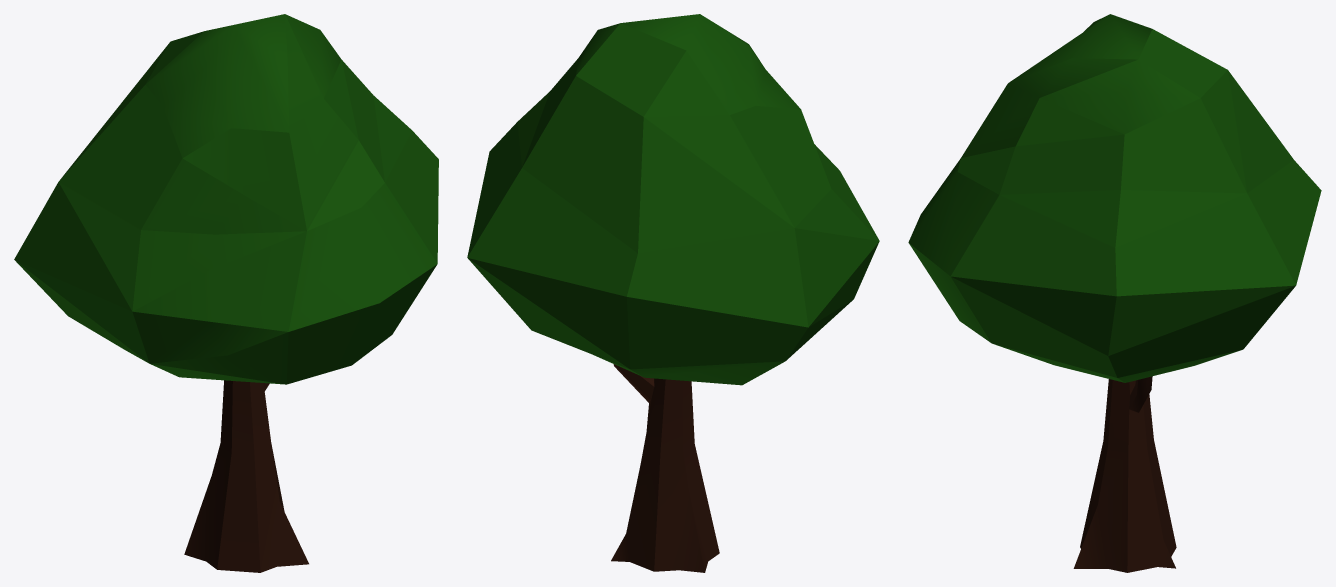
The model's file is arbol_1.FBX.
The picture shows the model from 3 angles, left to right: view 1: azimuth 30°, elevation 25°; view 2: azimuth 150°, elevation 25°; view 3: azimuth 270°, elevation 25°; orthographic projection. The views are drawn at different scales.
Parts seen in each view (by area): view 1: pCylinder17; view 2: pCylinder17; view 3: pCylinder17.
Part boxes in pixels (x1,y1,x2,y2): pCylinder17: (14, 14, 438, 572); pCylinder17: (467, 14, 879, 572); pCylinder17: (908, 14, 1321, 572).
Size of the model in its own units: 5.09 by 7.03 by 4.98.
